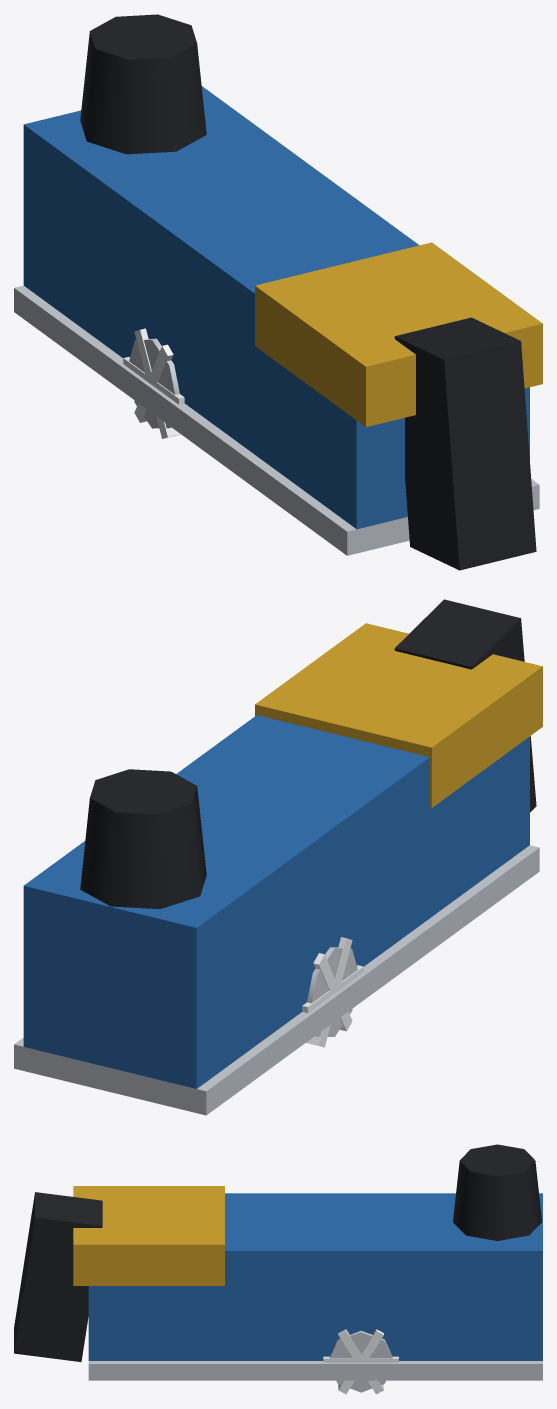
The model's file is tool_planer.glb.
The picture shows the model from 3 angles, top to bottom: view 1: azimuth 30°, elevation 25°; view 2: azimuth 150°, elevation 25°; view 3: azimuth 270°, elevation 25°; orthographic projection. The views are drawn at different scales.
Parts seen in each view (by area): view 1: _MeshInstance3D_1114, _MeshInstance3D_1117, _MeshInstance3D_1113, _MeshInstance3D_1116, _MeshInstance3D_1115, _MeshInstance3D_1118, _MeshInstance3D_1120; view 2: _MeshInstance3D_1114, _MeshInstance3D_1117, _MeshInstance3D_1115, _MeshInstance3D_1116, _MeshInstance3D_1113, _MeshInstance3D_1118, _MeshInstance3D_1121; view 3: _MeshInstance3D_1114, _MeshInstance3D_1117, _MeshInstance3D_1113, _MeshInstance3D_1115, _MeshInstance3D_1116, _MeshInstance3D_1118, _MeshInstance3D_1120, _MeshInstance3D_1121, _MeshInstance3D_1119.
Part boxes in pixels (bbox=[...]): _MeshInstance3D_1114: bbox=[23, 86, 529, 529]; _MeshInstance3D_1117: bbox=[255, 242, 542, 426]; _MeshInstance3D_1113: bbox=[394, 317, 536, 570]; _MeshInstance3D_1116: bbox=[80, 14, 206, 154]; _MeshInstance3D_1115: bbox=[14, 285, 539, 555]; _MeshInstance3D_1118: bbox=[129, 338, 179, 428]; _MeshInstance3D_1120: bbox=[134, 328, 180, 438]; _MeshInstance3D_1114: bbox=[23, 715, 529, 1088]; _MeshInstance3D_1117: bbox=[255, 623, 542, 807]; _MeshInstance3D_1115: bbox=[14, 845, 539, 1115]; _MeshInstance3D_1116: bbox=[80, 769, 206, 909]; _MeshInstance3D_1113: bbox=[394, 599, 536, 812]; _MeshInstance3D_1118: bbox=[307, 947, 357, 1036]; _MeshInstance3D_1121: bbox=[306, 937, 352, 1047]; _MeshInstance3D_1114: bbox=[88, 1193, 542, 1360]; _MeshInstance3D_1117: bbox=[73, 1186, 224, 1285]; _MeshInstance3D_1113: bbox=[14, 1192, 102, 1362]; _MeshInstance3D_1115: bbox=[88, 1361, 542, 1380]; _MeshInstance3D_1116: bbox=[453, 1144, 541, 1240]; _MeshInstance3D_1118: bbox=[329, 1330, 392, 1392]; _MeshInstance3D_1120: bbox=[338, 1329, 383, 1394]; _MeshInstance3D_1121: bbox=[338, 1329, 383, 1394]; _MeshInstance3D_1119: bbox=[323, 1356, 398, 1362].
Bounding box in the file's own units: 0.1 × 0.1482 × 0.3492.
